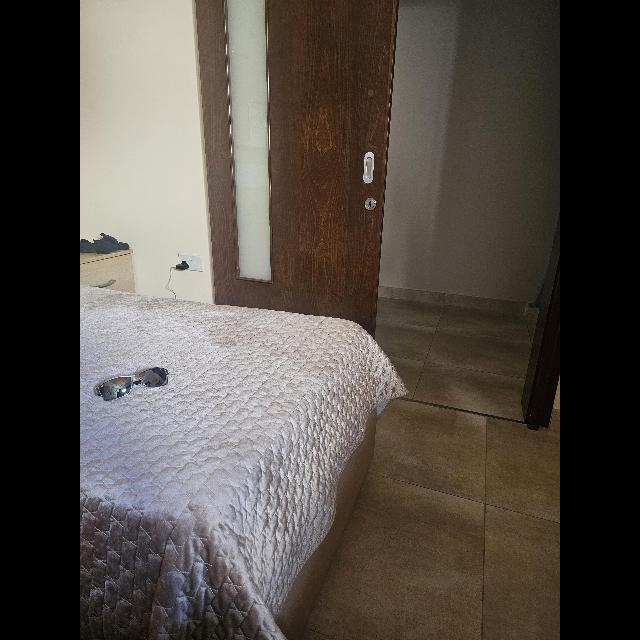Sunglasses: (94, 368, 168, 400)
